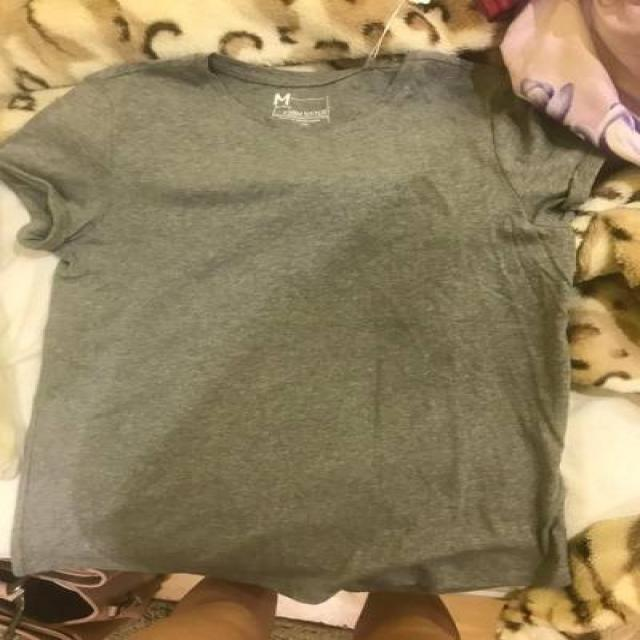Clothes -Biodegradable-: (0, 0, 640, 600)
